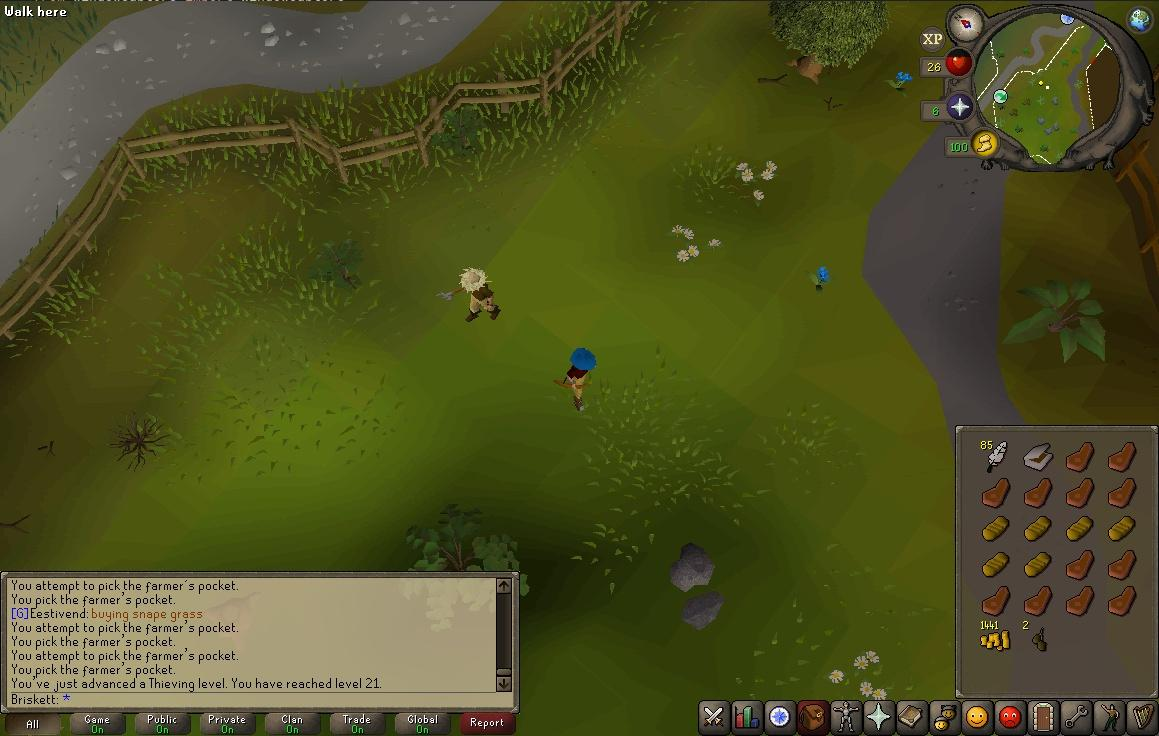Farmer: (439, 267, 502, 324)
